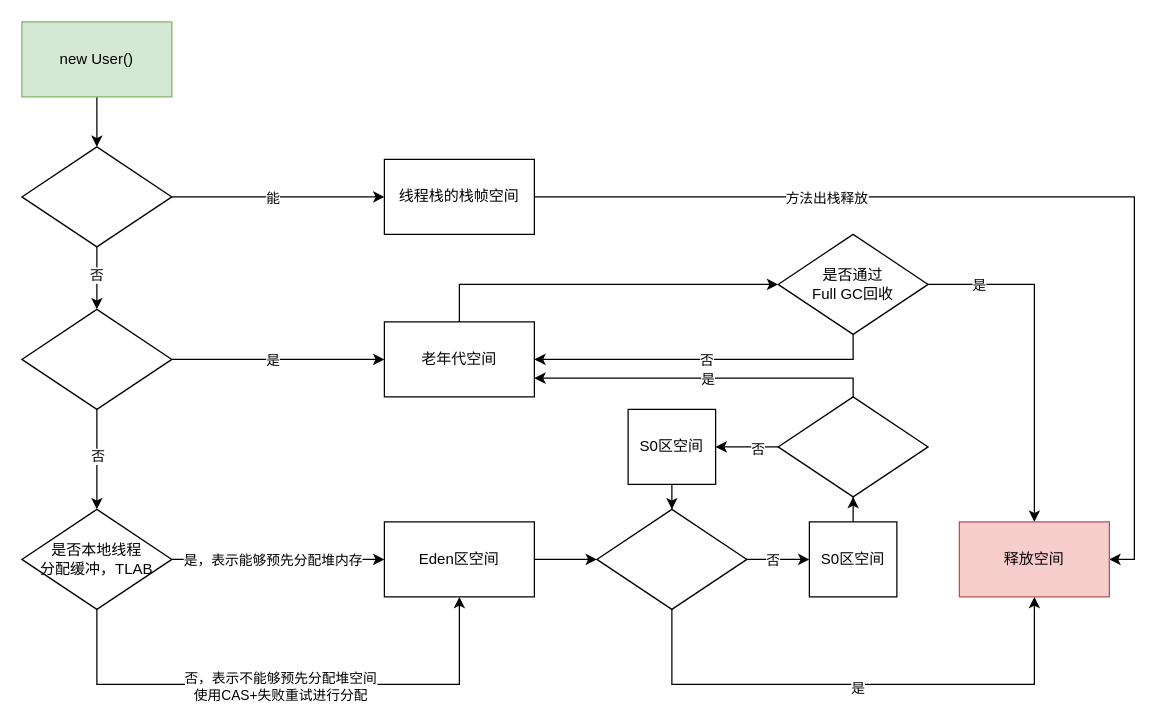
This 1166x724 diagram has some shape labels left out. Each missing label, with the box of its shape:
是否是大对象？: (21, 308, 172, 409)
是否触发对象 动 态年龄判断机制: (777, 396, 928, 497)
是否通过 Minor GC回收: (596, 508, 747, 609)
能否栈内分配？: (21, 146, 172, 247)
